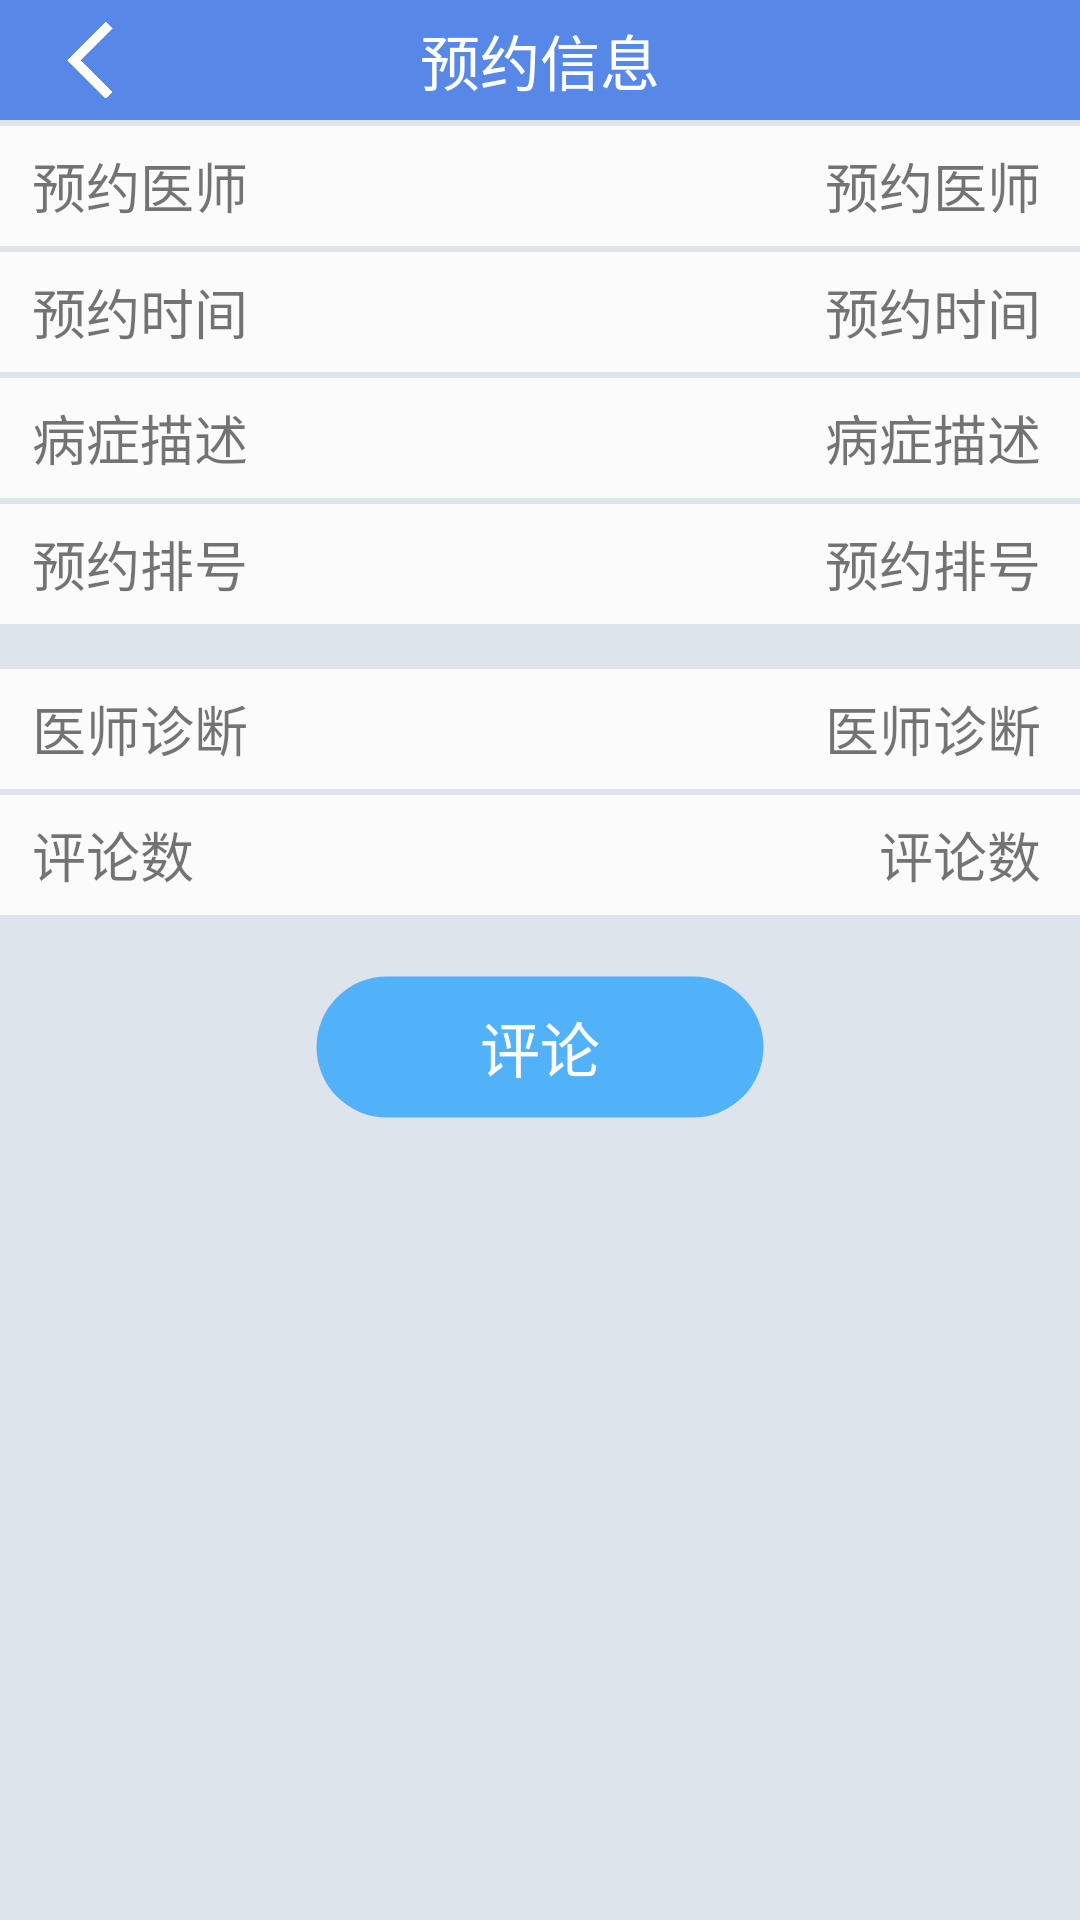

Locate icon controls on the screen. Image size 1080x1920, boxes as (x1, y1, x2, y2).
back: (67, 22, 113, 98)
